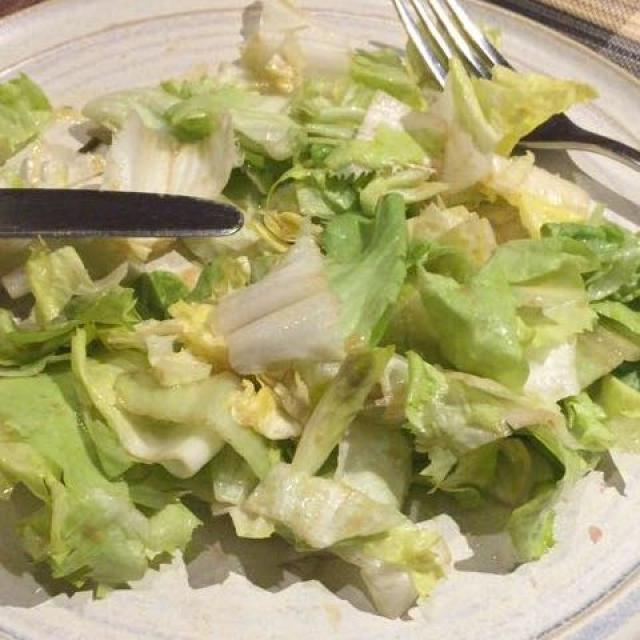salad: (10, 31, 629, 606)
